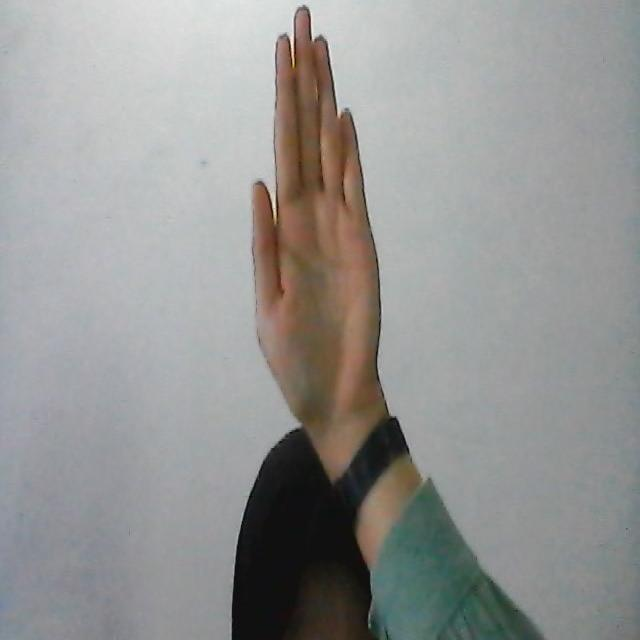hand: (251, 4, 385, 483)
